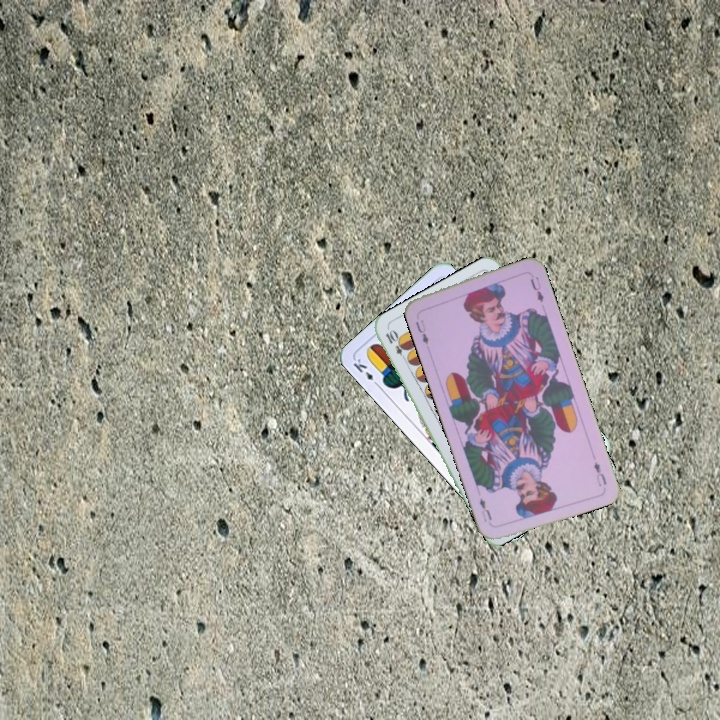E10: (381, 326, 410, 364)
EK: (349, 354, 382, 390)
EU: (411, 316, 431, 347), (590, 458, 609, 489)
